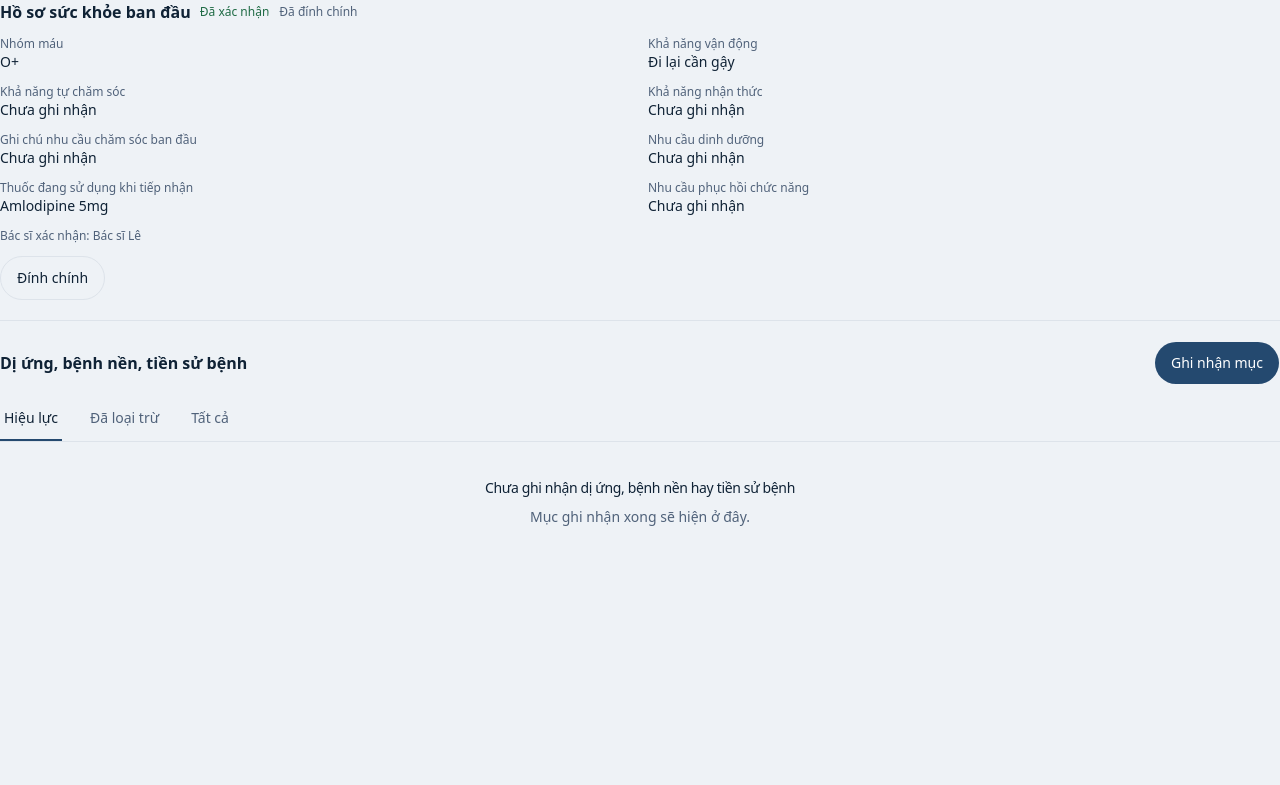
Scenario: HealthTab, hồ sơ sức khỏe ban đầu › FR_017_daDinhChinh_hienNhan_vaMoKhungCacLanDinhChinh
Expected: the text "Đã đính chính" is shown, [278,0,358,24]
Click the button "Đính chính": {"x": 53, "y": 278} [0,256,105,300]
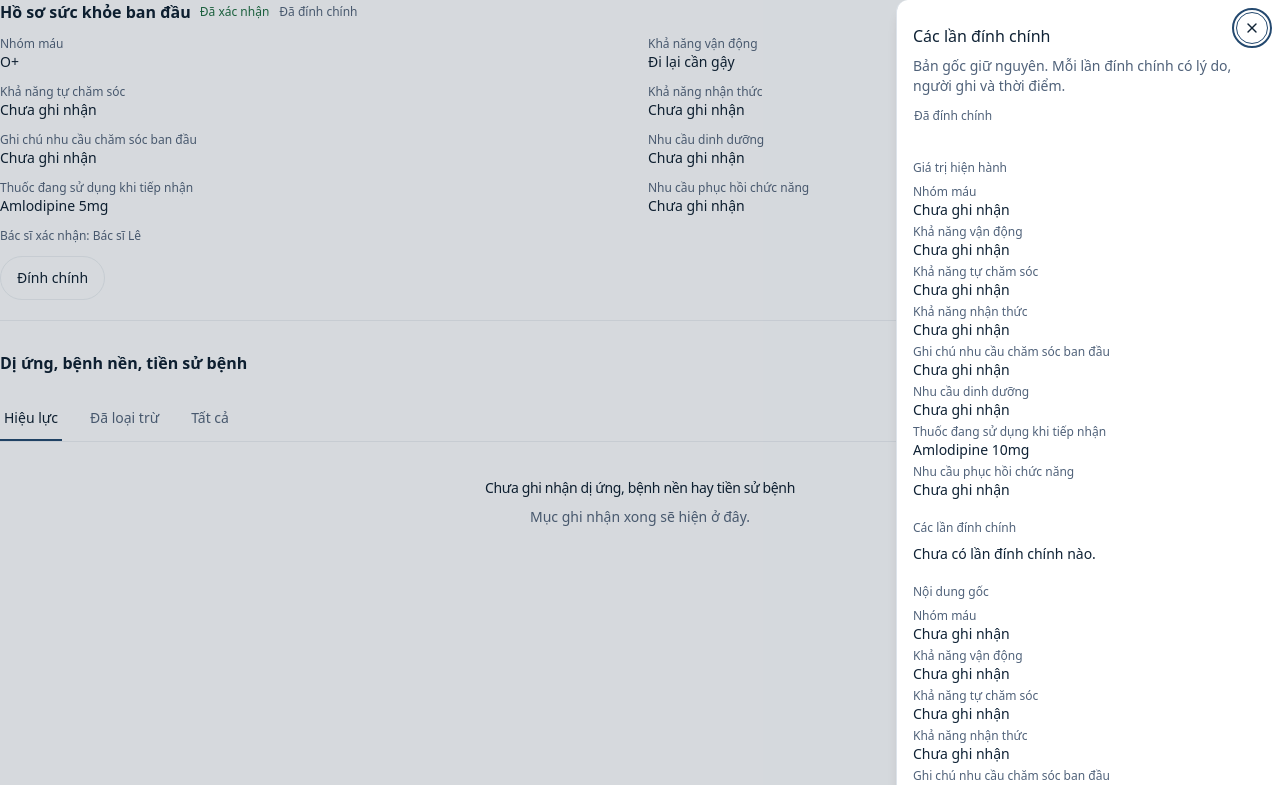
Expected: the 1st heading "Các lần đính chính" is shown, [913,25,1050,47]
Expected: the text "Amlodipine 10mg" is shown, [913,440,1030,459]
